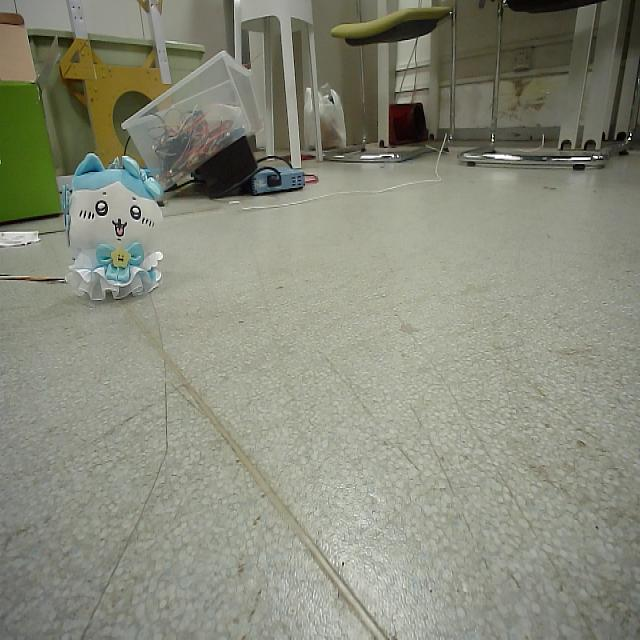xiaoba: (62, 153, 170, 299)
